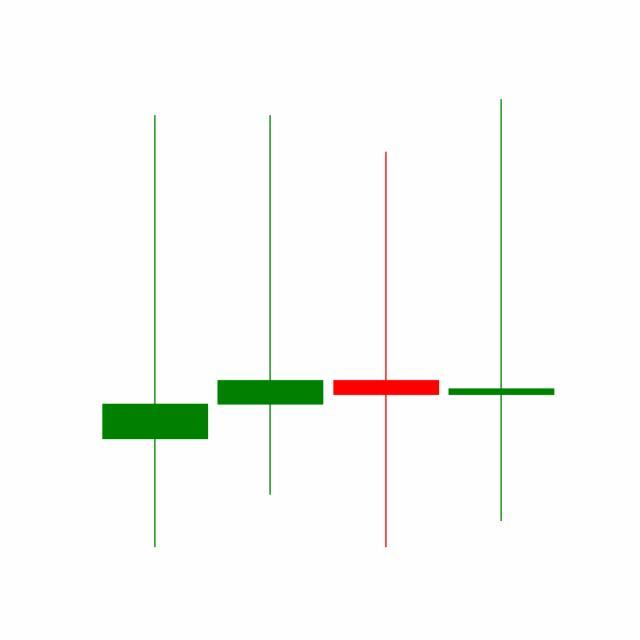Spinning Top: (329, 148, 445, 553)
